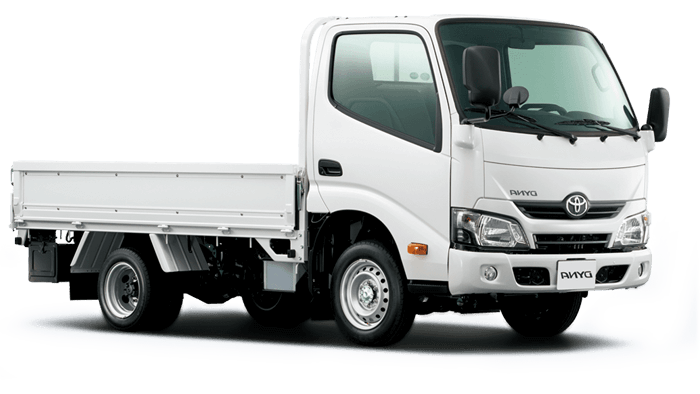truck: (9, 13, 671, 348)
